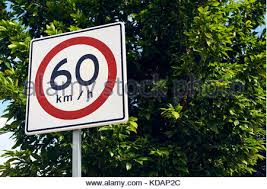Speed_limit_60km: (34, 37, 116, 118)
